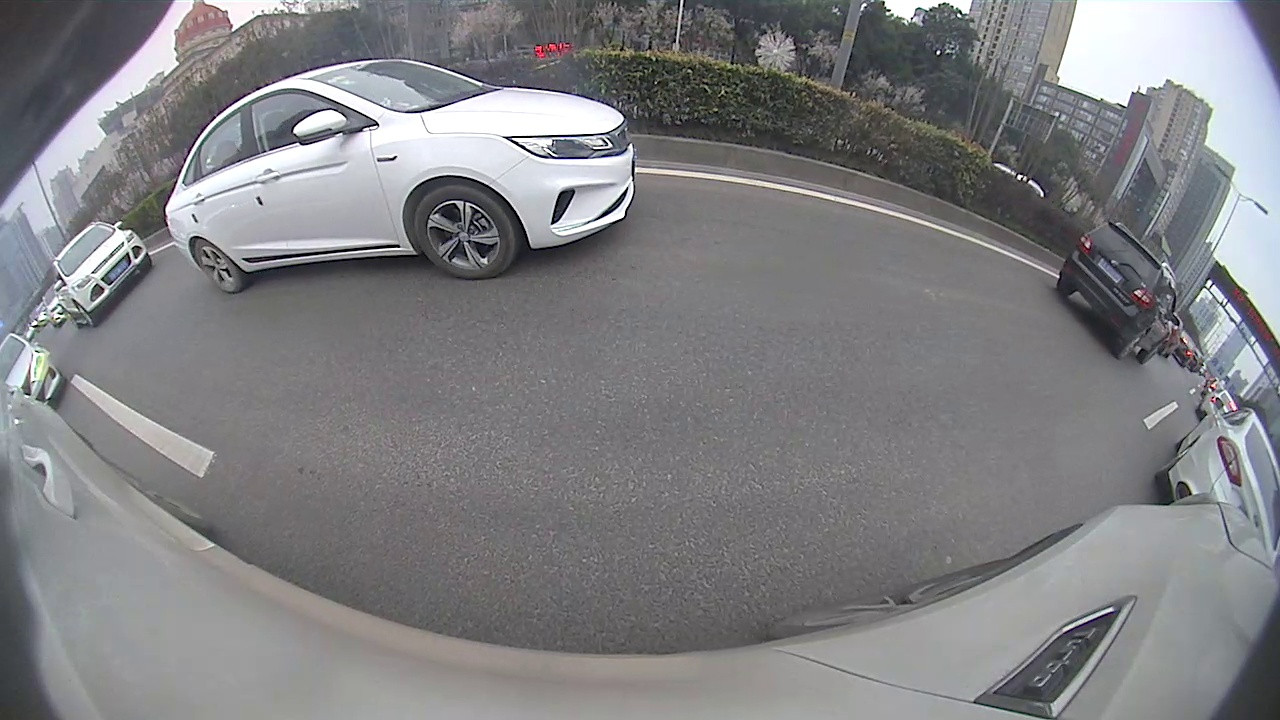car: (164, 56, 636, 296), (1154, 397, 1279, 568), (1055, 218, 1181, 366), (46, 219, 154, 330), (0, 330, 63, 413)
front: (412, 184, 518, 280), (77, 301, 95, 327)
rear: (193, 237, 246, 294), (1117, 327, 1148, 361)
